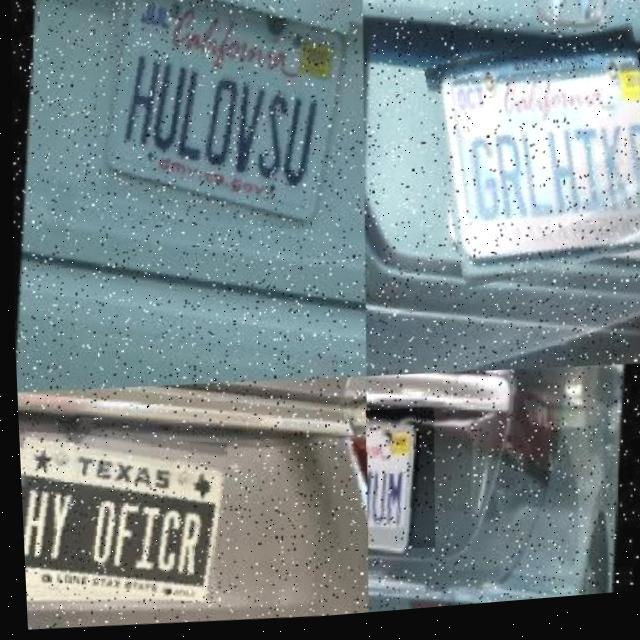LicensePlate: (93, 0, 356, 244), (423, 32, 640, 296), (16, 432, 221, 604), (357, 411, 434, 559)
